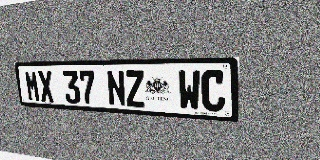3: (62, 71, 81, 104)
7: (78, 70, 97, 105)
C: (201, 70, 226, 112)
M: (24, 71, 41, 102)
N: (106, 70, 126, 107)
W: (178, 70, 201, 111)
X: (37, 71, 55, 102)
Z: (125, 70, 145, 108)
